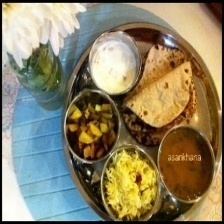rice: (105, 151, 159, 224)
